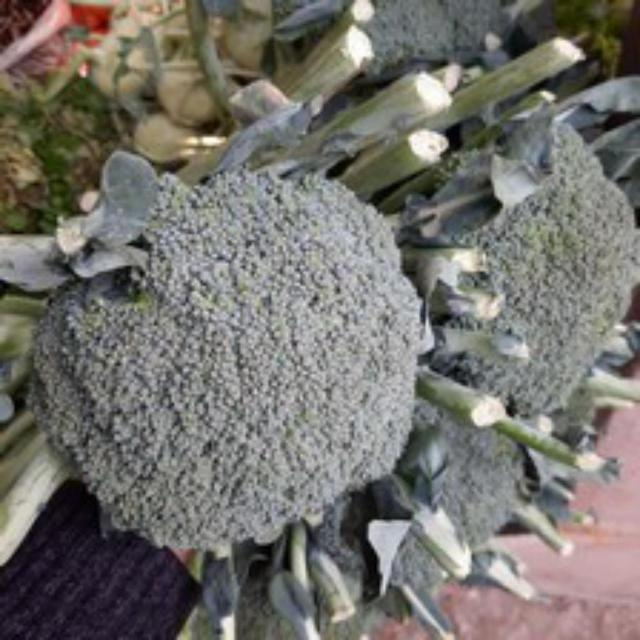broccoli: (36, 162, 437, 568)
